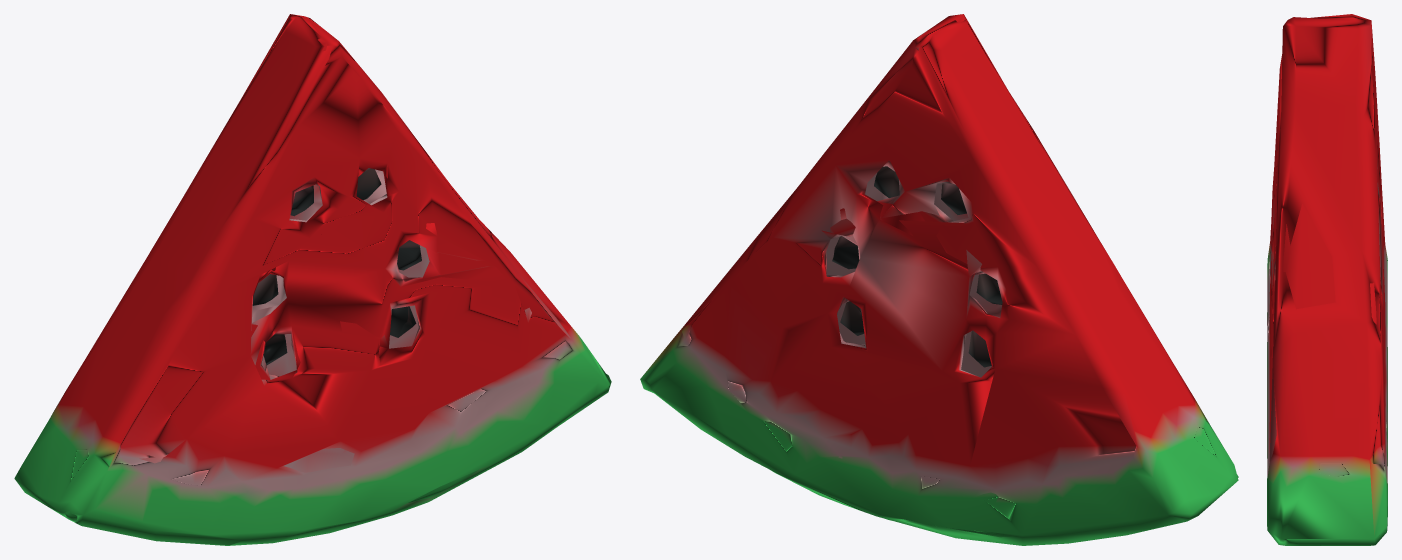
The model's file is gen3d-watermelon-slice-lod0.glb.
3 renders of one model, left to right at view 1: azimuth 30°, elevation 25°; view 2: azimuth 150°, elevation 25°; view 3: azimuth 270°, elevation 25°, orthographic. The views are drawn at different scales.
Parts seen in each view (by area): view 1: part_0; view 2: part_0; view 3: part_0.
Boxes of the visible parts, x1=… form: part_0: x1=14, y1=14, x2=611, y2=545; part_0: x1=640, y1=14, x2=1238, y2=545; part_0: x1=1267, y1=14, x2=1387, y2=545.
Size of the model in its own units: 1.18 by 0.997 by 0.2307.
